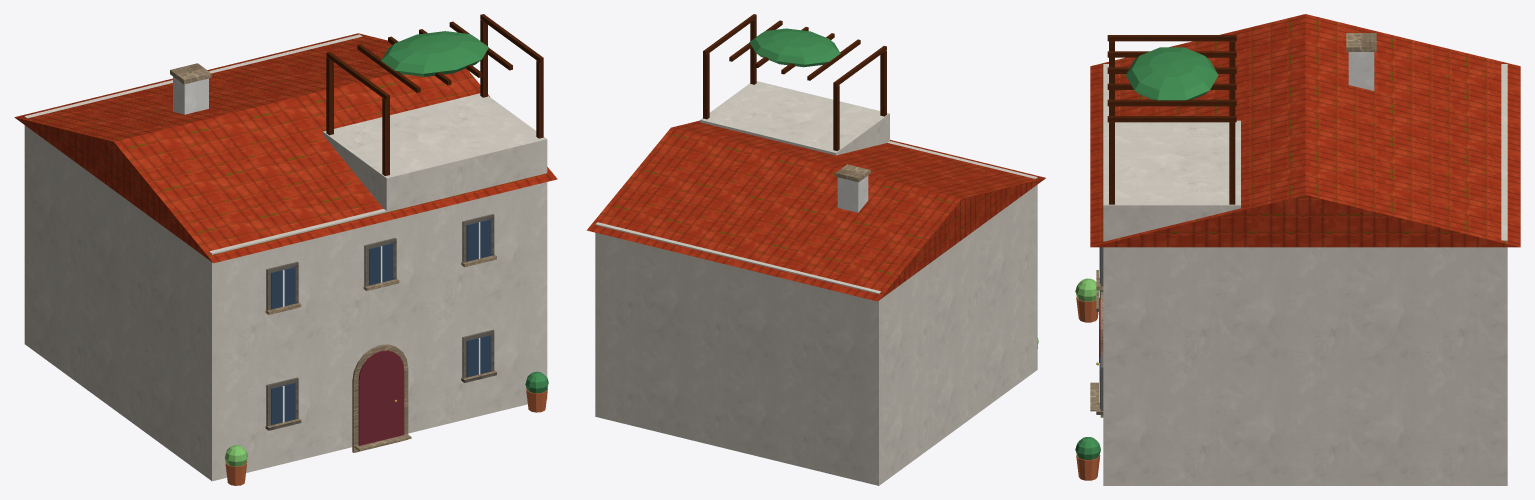
File: mediterranea_w10_0.gltf
3 renders of one model, left to right at view 1: azimuth 30°, elevation 25°; view 2: azimuth 150°, elevation 25°; view 3: azimuth 270°, elevation 25°, orthographic. The views are drawn at different scales.
Visible parts, largest first — view 1: mediterranea_w10_0; view 2: mediterranea_w10_0; view 3: mediterranea_w10_0.
Boxes of the visible parts, x1,y1,x2,y2 form: mediterranea_w10_0: [14, 14, 557, 485]; mediterranea_w10_0: [586, 14, 1045, 485]; mediterranea_w10_0: [1075, 14, 1520, 485].
Size of what is drawn, in the model's own units: 9.96 by 9.9 by 10.35.
Materials: 7 (4 with a texture image).
